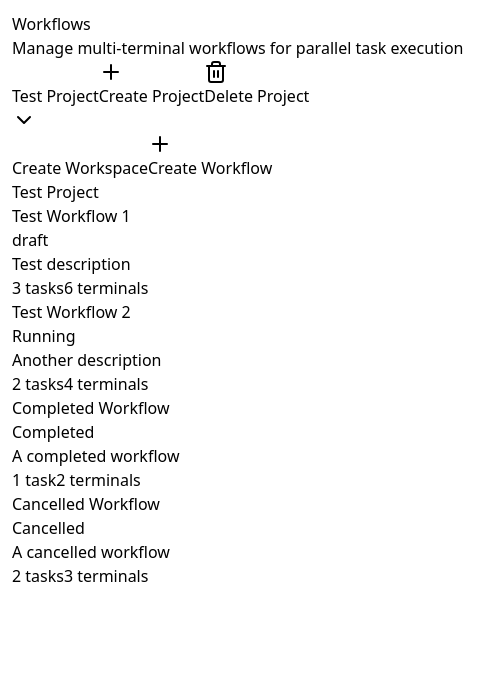
Test case: Workflows Page › Prompt Interaction › falls back to workflow WS submission for enter_confirm when API rejects empty response
Expected: the heading "Completed Workflow" is shown, [12,397,170,419]
Click the text "Completed Workflow" at (96, 444), box [12,397,180,491]
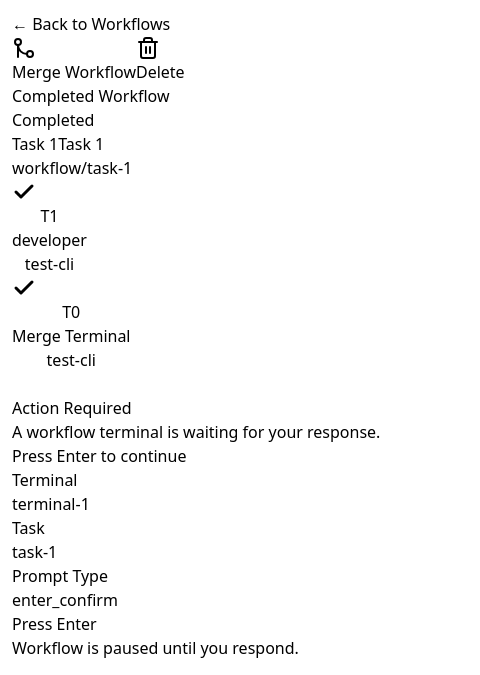
Now the button "Merge Workflow" is shown, box [12,36,136,84]
Click the button with test id "workflow-prompt-enter-confirm" at (54, 624), box [12,612,97,636]
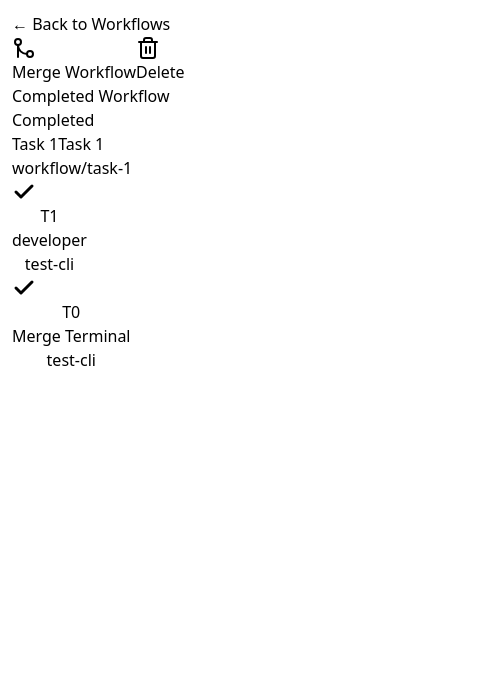
Now the element with test id "workflow-prompt-dialog" is gone
